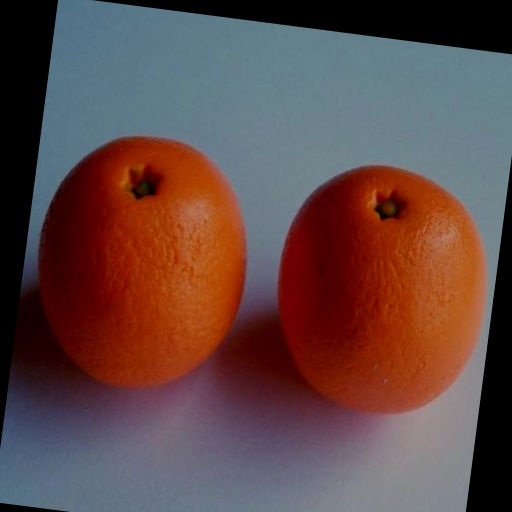fruit: (39, 137, 246, 387), (279, 166, 486, 412)
